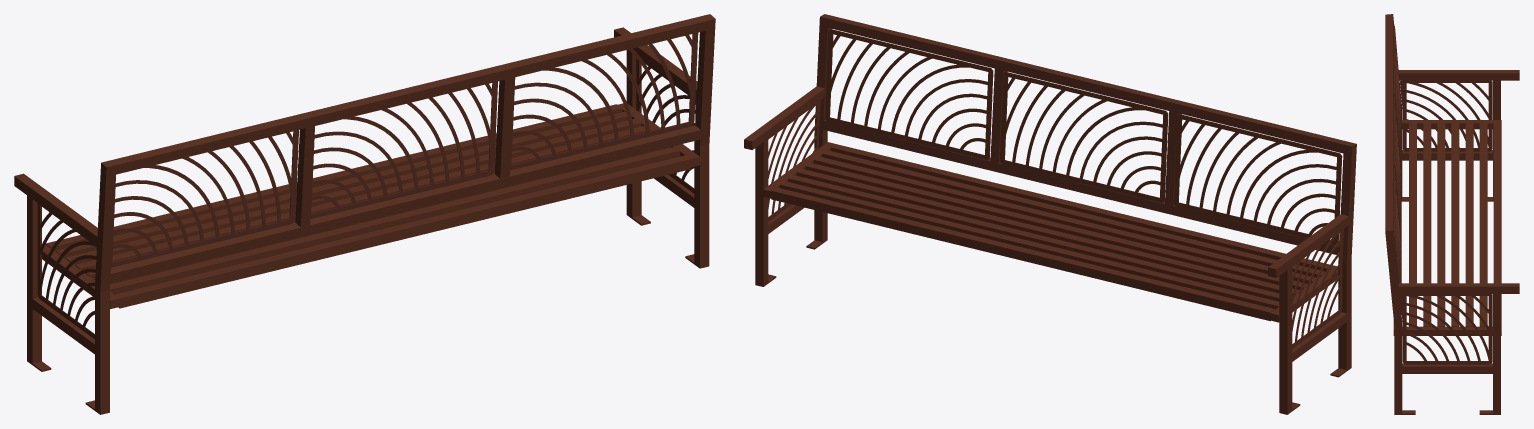
3 renders of one model, left to right at view 1: azimuth 30°, elevation 25°; view 2: azimuth 150°, elevation 25°; view 3: azimuth 270°, elevation 25°, orthographic. The views are drawn at different scales.
Parts seen in each view (by area): view 1: mesh3_mesh3-geometry, mesh35_mesh35-geometry, mesh26_mesh26-geometry, mesh17_mesh17-geometry, mesh20_mesh20-geometry, mesh51_mesh51-geometry, mesh87_mesh87-geometry, mesh72_mesh72-geometry, mesh57_mesh57-geometry, mesh24_mesh24-geometry, mesh22_mesh22-geometry, mesh25_mesh25-geometry (+7 smaller); view 2: mesh3_mesh3-geometry, mesh25_mesh25-geometry, mesh17_mesh17-geometry, mesh57_mesh57-geometry, mesh87_mesh87-geometry, mesh72_mesh72-geometry, mesh51_mesh51-geometry, mesh35_mesh35-geometry, mesh24_mesh24-geometry, mesh22_mesh22-geometry, mesh23_mesh23-geometry, mesh21_mesh21-geometry (+9 smaller); view 3: mesh51_mesh51-geometry, mesh37_mesh37-geometry, mesh17_mesh17-geometry, mesh5_mesh5-geometry, mesh3_mesh3-geometry, mesh23_mesh23-geometry, mesh22_mesh22-geometry, mesh24_mesh24-geometry, mesh19_mesh19-geometry, mesh21_mesh21-geometry, mesh25_mesh25-geometry, mesh20_mesh20-geometry (+6 smaller).
Part boxes in pixels (<box>): mesh3_mesh3-geometry: <box>111,16,705,174</box>; mesh35_mesh35-geometry: <box>110,125,700,283</box>; mesh26_mesh26-geometry: <box>114,155,690,308</box>; mesh17_mesh17-geometry: <box>14,160,115,414</box>; mesh20_mesh20-geometry: <box>110,146,680,294</box>; mesh51_mesh51-geometry: <box>614,14,715,268</box>; mesh87_mesh87-geometry: <box>510,32,698,170</box>; mesh72_mesh72-geometry: <box>111,130,298,267</box>; mesh57_mesh57-geometry: <box>310,81,497,218</box>; mesh24_mesh24-geometry: <box>55,111,631,257</box>; mesh22_mesh22-geometry: <box>65,118,641,264</box>; mesh25_mesh25-geometry: <box>46,104,622,250</box>; mesh3_mesh3-geometry: <box>827,16,1348,153</box>; mesh25_mesh25-geometry: <box>771,187,1275,321</box>; mesh17_mesh17-geometry: <box>1268,142,1356,414</box>; mesh57_mesh57-geometry: <box>1000,72,1168,202</box>; mesh87_mesh87-geometry: <box>825,29,993,160</box>; mesh72_mesh72-geometry: <box>1173,114,1342,244</box>; mesh51_mesh51-geometry: <box>744,14,832,286</box>; mesh35_mesh35-geometry: <box>823,120,1339,254</box>; mesh24_mesh24-geometry: <box>780,181,1279,309</box>; mesh22_mesh22-geometry: <box>788,175,1279,301</box>; mesh23_mesh23-geometry: <box>796,168,1299,295</box>; mesh21_mesh21-geometry: <box>805,162,1307,290</box>; mesh51_mesh51-geometry: <box>1385,227,1519,414</box>; mesh37_mesh37-geometry: <box>1400,294,1492,364</box>; mesh17_mesh17-geometry: <box>1385,14,1519,201</box>; mesh5_mesh5-geometry: <box>1400,80,1492,151</box>; mesh3_mesh3-geometry: <box>1385,17,1393,233</box>; mesh23_mesh23-geometry: <box>1451,123,1459,326</box>; mesh22_mesh22-geometry: <box>1465,123,1473,326</box>; mesh24_mesh24-geometry: <box>1479,123,1487,326</box>; mesh19_mesh19-geometry: <box>1423,123,1431,326</box>; mesh21_mesh21-geometry: <box>1437,123,1445,326</box>; mesh25_mesh25-geometry: <box>1493,123,1501,326</box>; mesh20_mesh20-geometry: <box>1409,123,1416,326</box>.
Bounding box in the file's own units: 0.903 × 0.3583 × 0.237.
